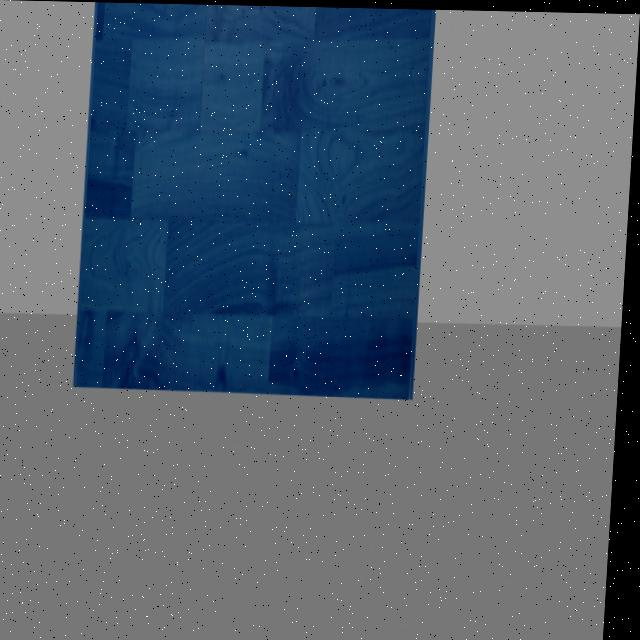shelf: (64, 1, 460, 424)
